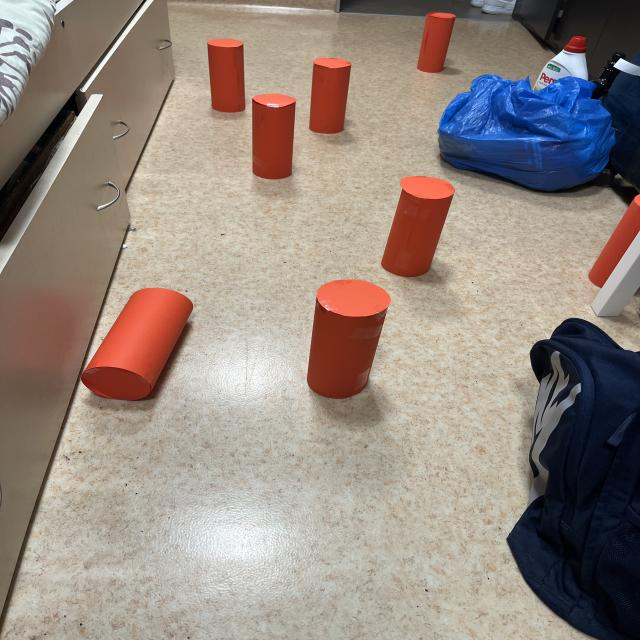przeszkoda: (81, 288, 193, 400), (307, 279, 390, 398), (381, 176, 454, 277), (252, 94, 296, 179), (309, 58, 351, 133), (207, 39, 245, 112), (418, 13, 455, 72)
